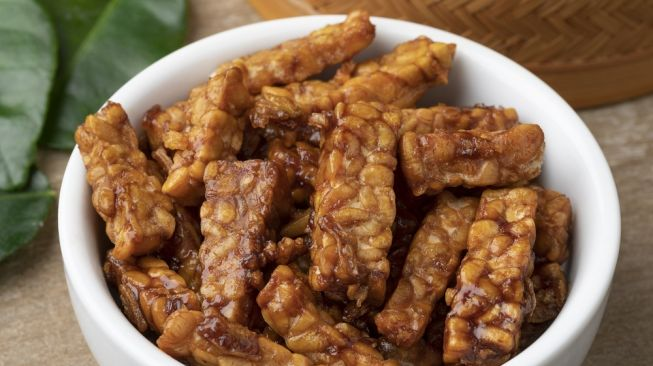Tempe: (324, 100, 391, 286), (206, 163, 282, 320), (170, 95, 257, 192), (107, 111, 160, 270)
